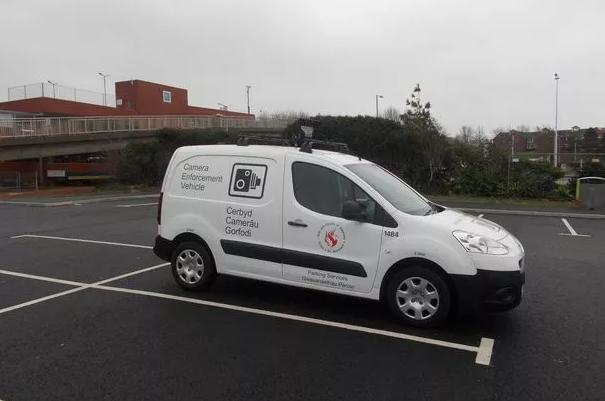vehicle: (153, 143, 526, 328)
